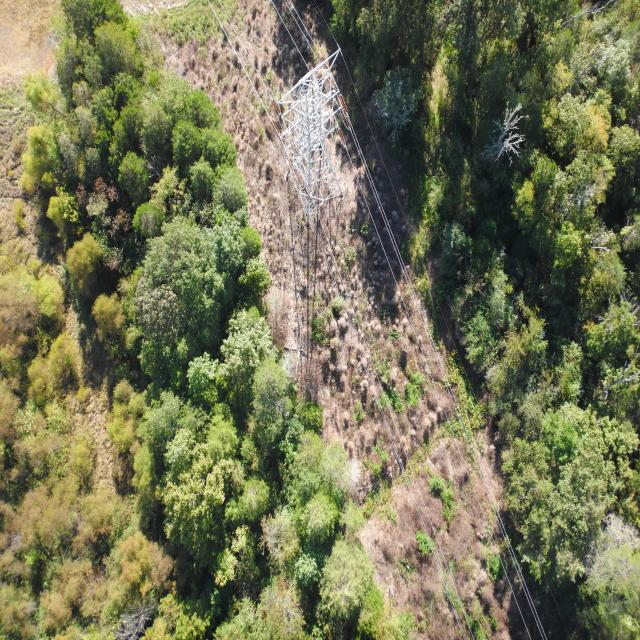Area of Interest: (4, 5, 398, 640), (330, 9, 638, 631)
